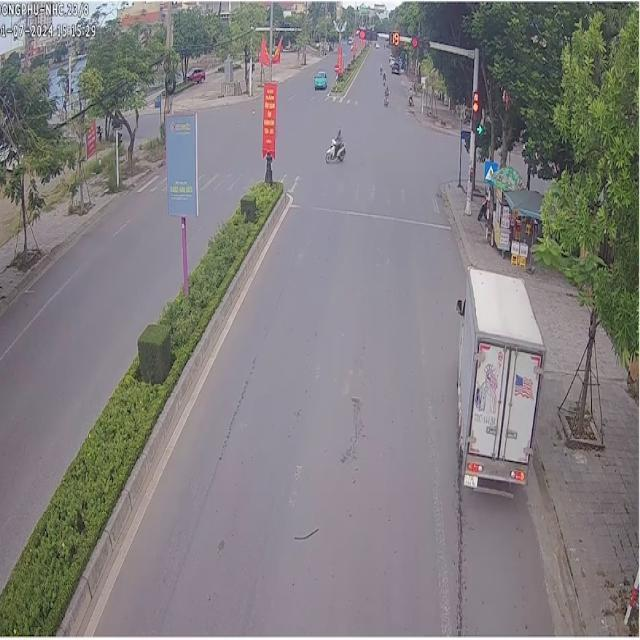car: (456, 266, 543, 495), (313, 68, 326, 88)
motobike: (323, 128, 344, 159)
red_light: (470, 94, 478, 137), (410, 36, 429, 48), (357, 28, 377, 39), (387, 30, 399, 47)
stop_line: (290, 203, 449, 227)
